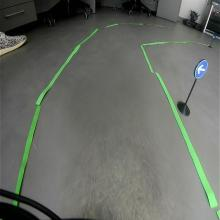left: (193, 59, 208, 79)
